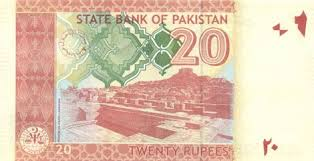20 rupee: (3, 3, 308, 161)
